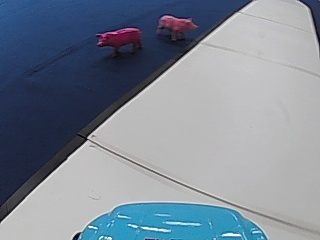pig: (94, 23, 143, 58), (155, 11, 198, 42)
